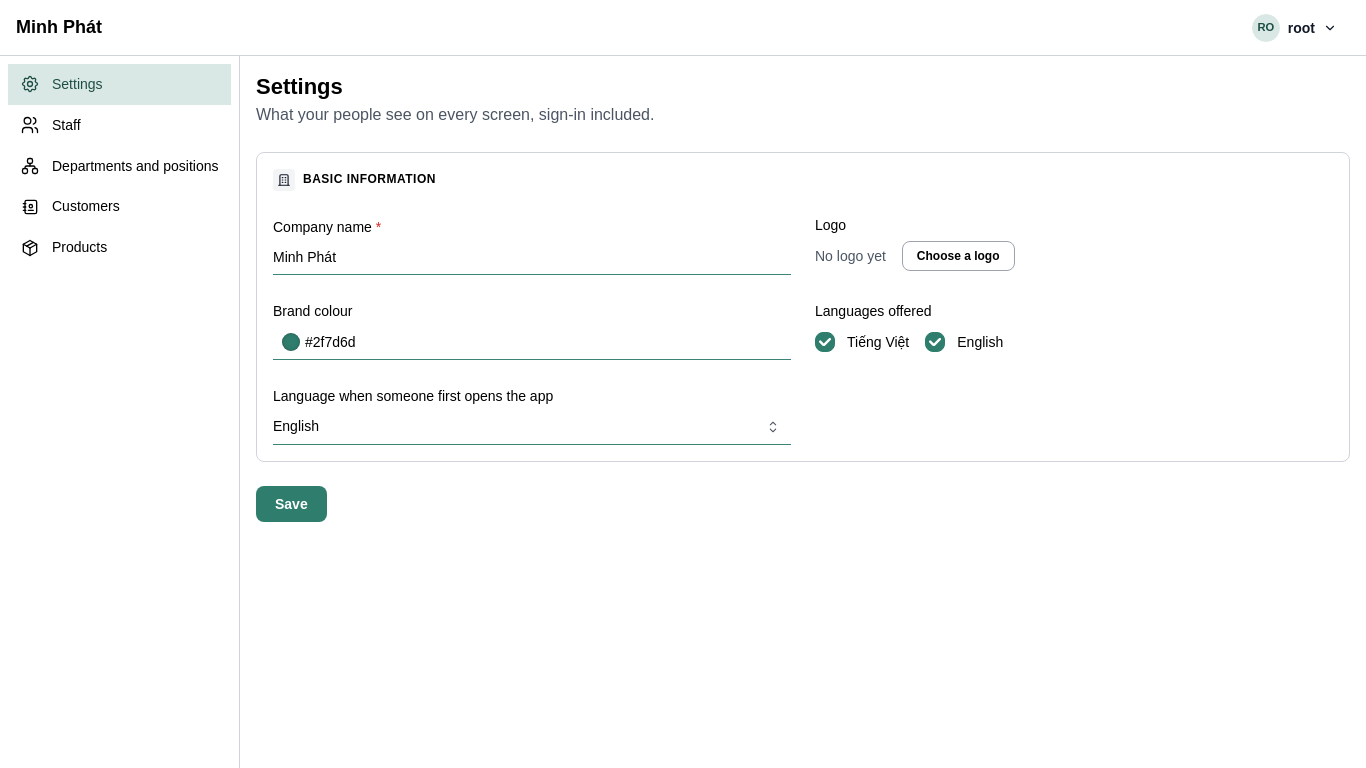
the app › The root sets the company’s name and colour; every screen shows them
The image size is (1366, 768).
Replace the text in the field labelled "Company name *" with "Minh Phát Sài Gòn" at {"x": 532, "y": 257}, box [273, 239, 791, 275]
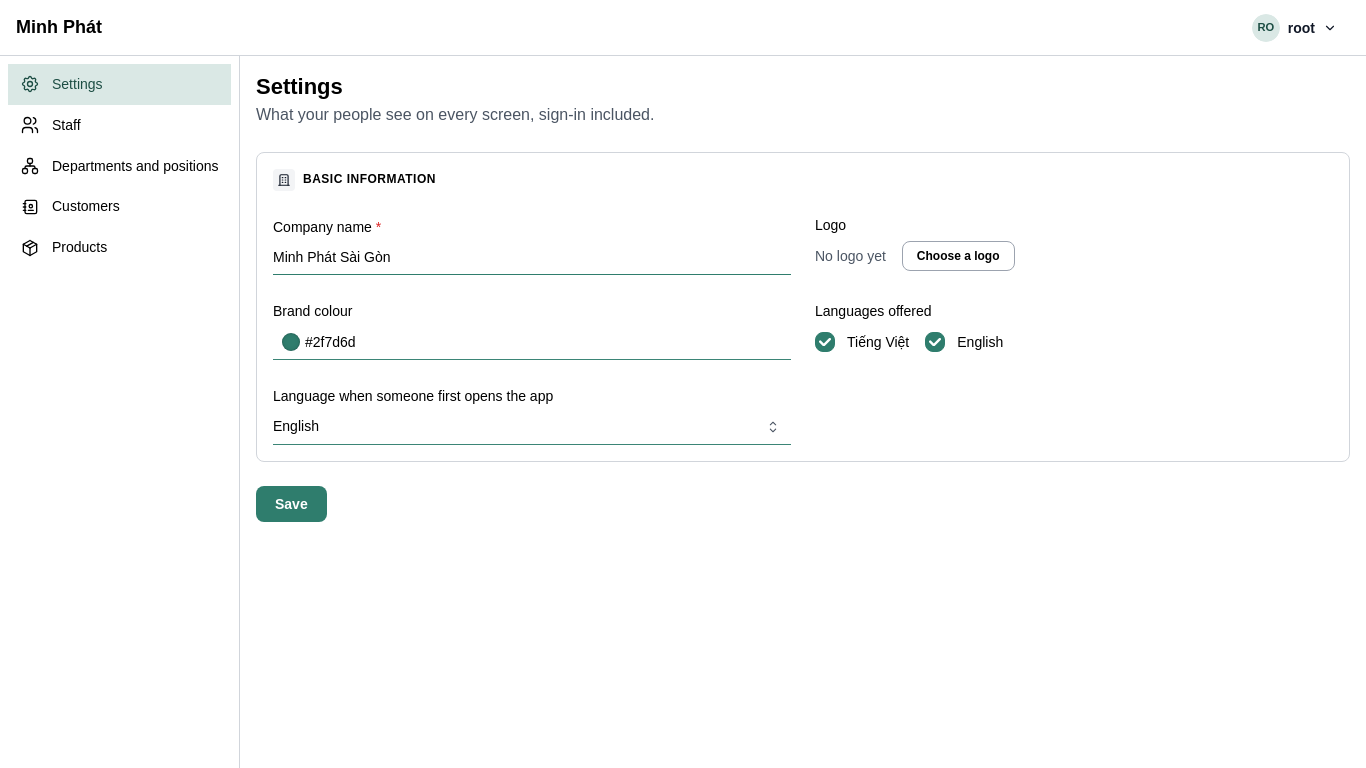
Click the button "Save" at {"x": 291, "y": 504}, box [256, 486, 327, 522]
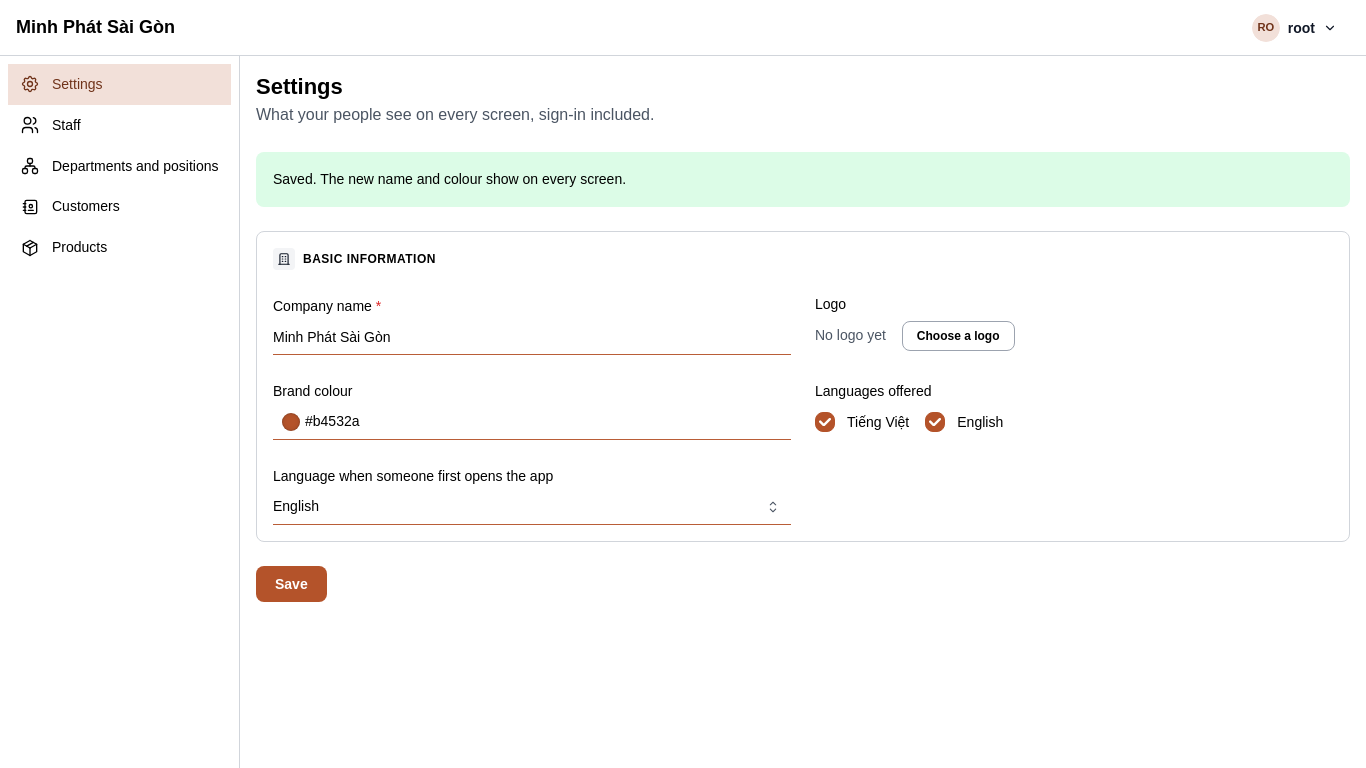
Check: the message shows "Saved", box [273, 171, 626, 187]
Check: the heading "Minh Phát Sài Gòn" is shown, box [16, 14, 175, 41]
